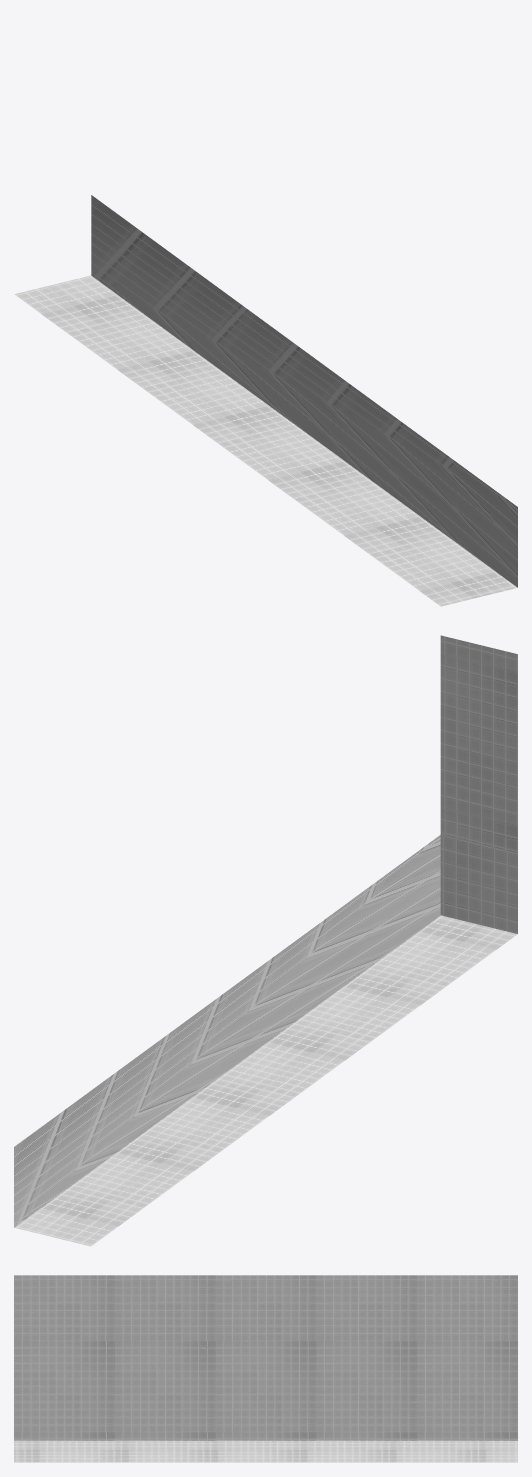
The model's file is tunnel.glb.
The picture shows the model from 3 angles, top to bottom: view 1: azimuth 30°, elevation 25°; view 2: azimuth 150°, elevation 25°; view 3: azimuth 270°, elevation 25°; orthographic projection. The views are drawn at different scales.
Parts seen in each view (by area): view 1: Tunnel; view 2: Tunnel; view 3: Tunnel.
Part boxes in pixels (box(x1,y1,x2,y2)): Tunnel: box(14, 195, 517, 606); Tunnel: box(14, 635, 517, 1246); Tunnel: box(14, 1275, 517, 1462).
Size of the model in its own units: 2 by 6.93 by 19.16.
1 material, 1 textured.
